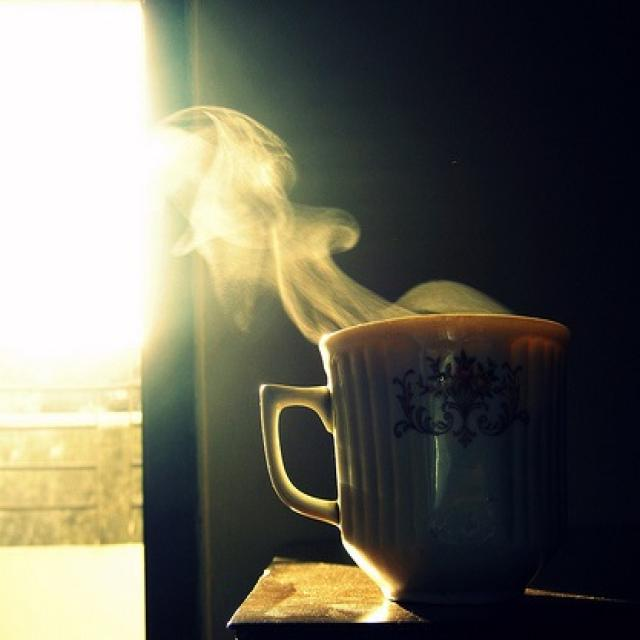Cup: (229, 256, 622, 603)
Table: (201, 522, 640, 638)
